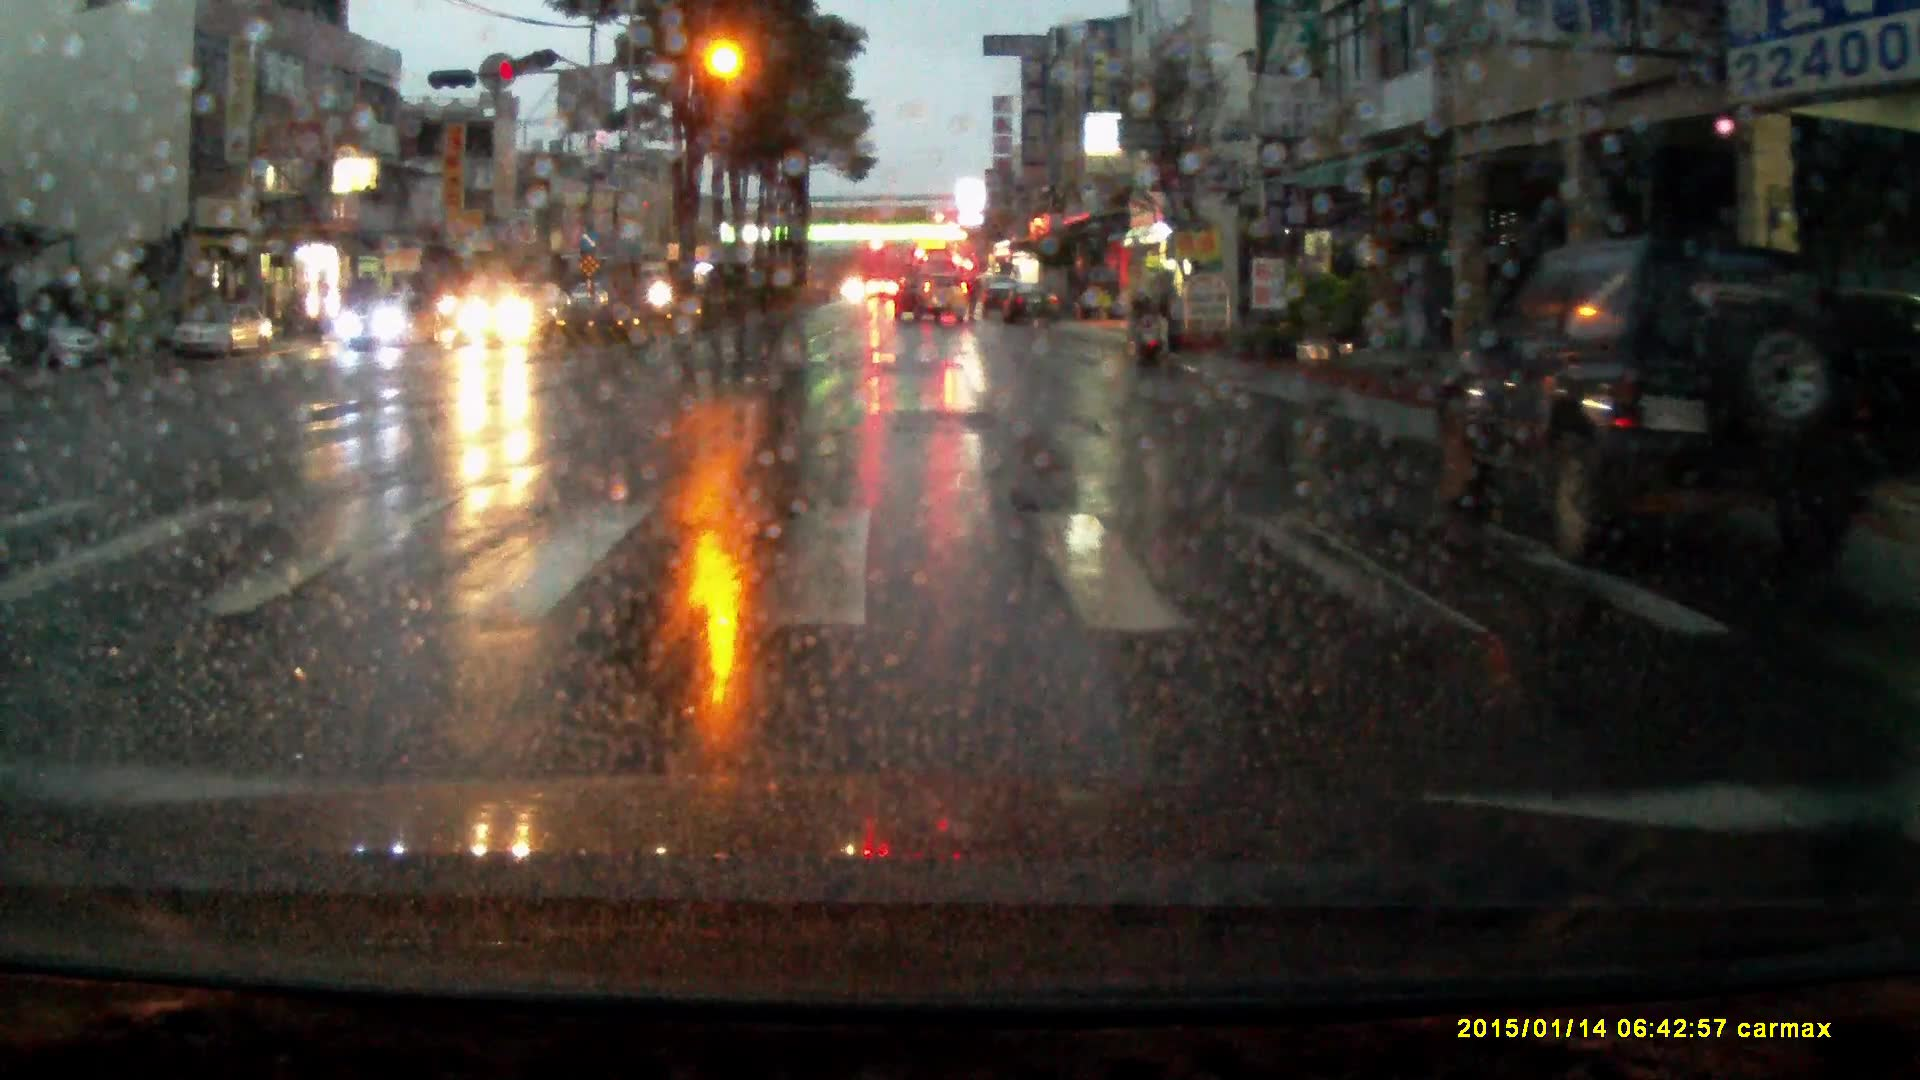vehicle: (1433, 239, 1869, 551), (460, 278, 559, 349), (171, 295, 280, 357), (338, 291, 442, 353), (22, 306, 102, 375), (893, 272, 971, 324), (911, 251, 952, 313), (1000, 285, 1060, 326), (978, 276, 1014, 319), (572, 282, 611, 314), (865, 280, 902, 303)
